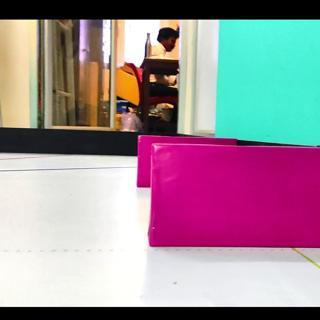xparking: (151, 152, 318, 248)
